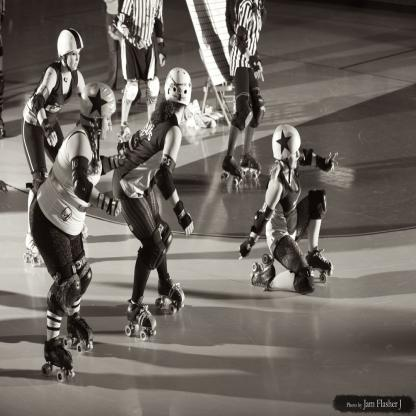Helmet: (80, 82, 117, 147), (271, 121, 299, 175), (49, 25, 77, 71), (165, 64, 192, 110)
